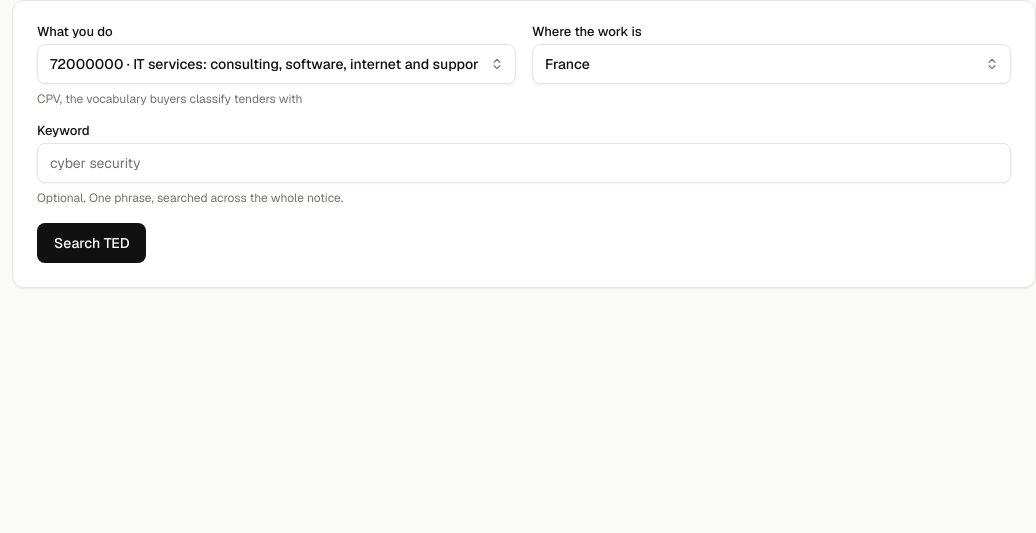
it: a result card › names the buyer country when it is not the one searched for
Click the button "Search TED". click: (92, 243)
box: [37,223,146,263]
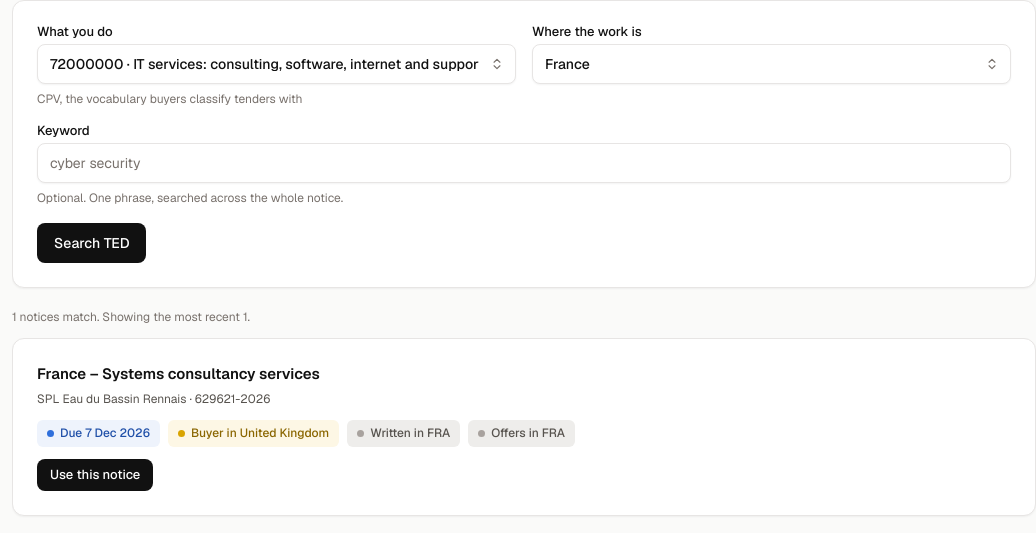
Now the text "Buyer in United Kingdom" is shown, box [168,420,339,447]
